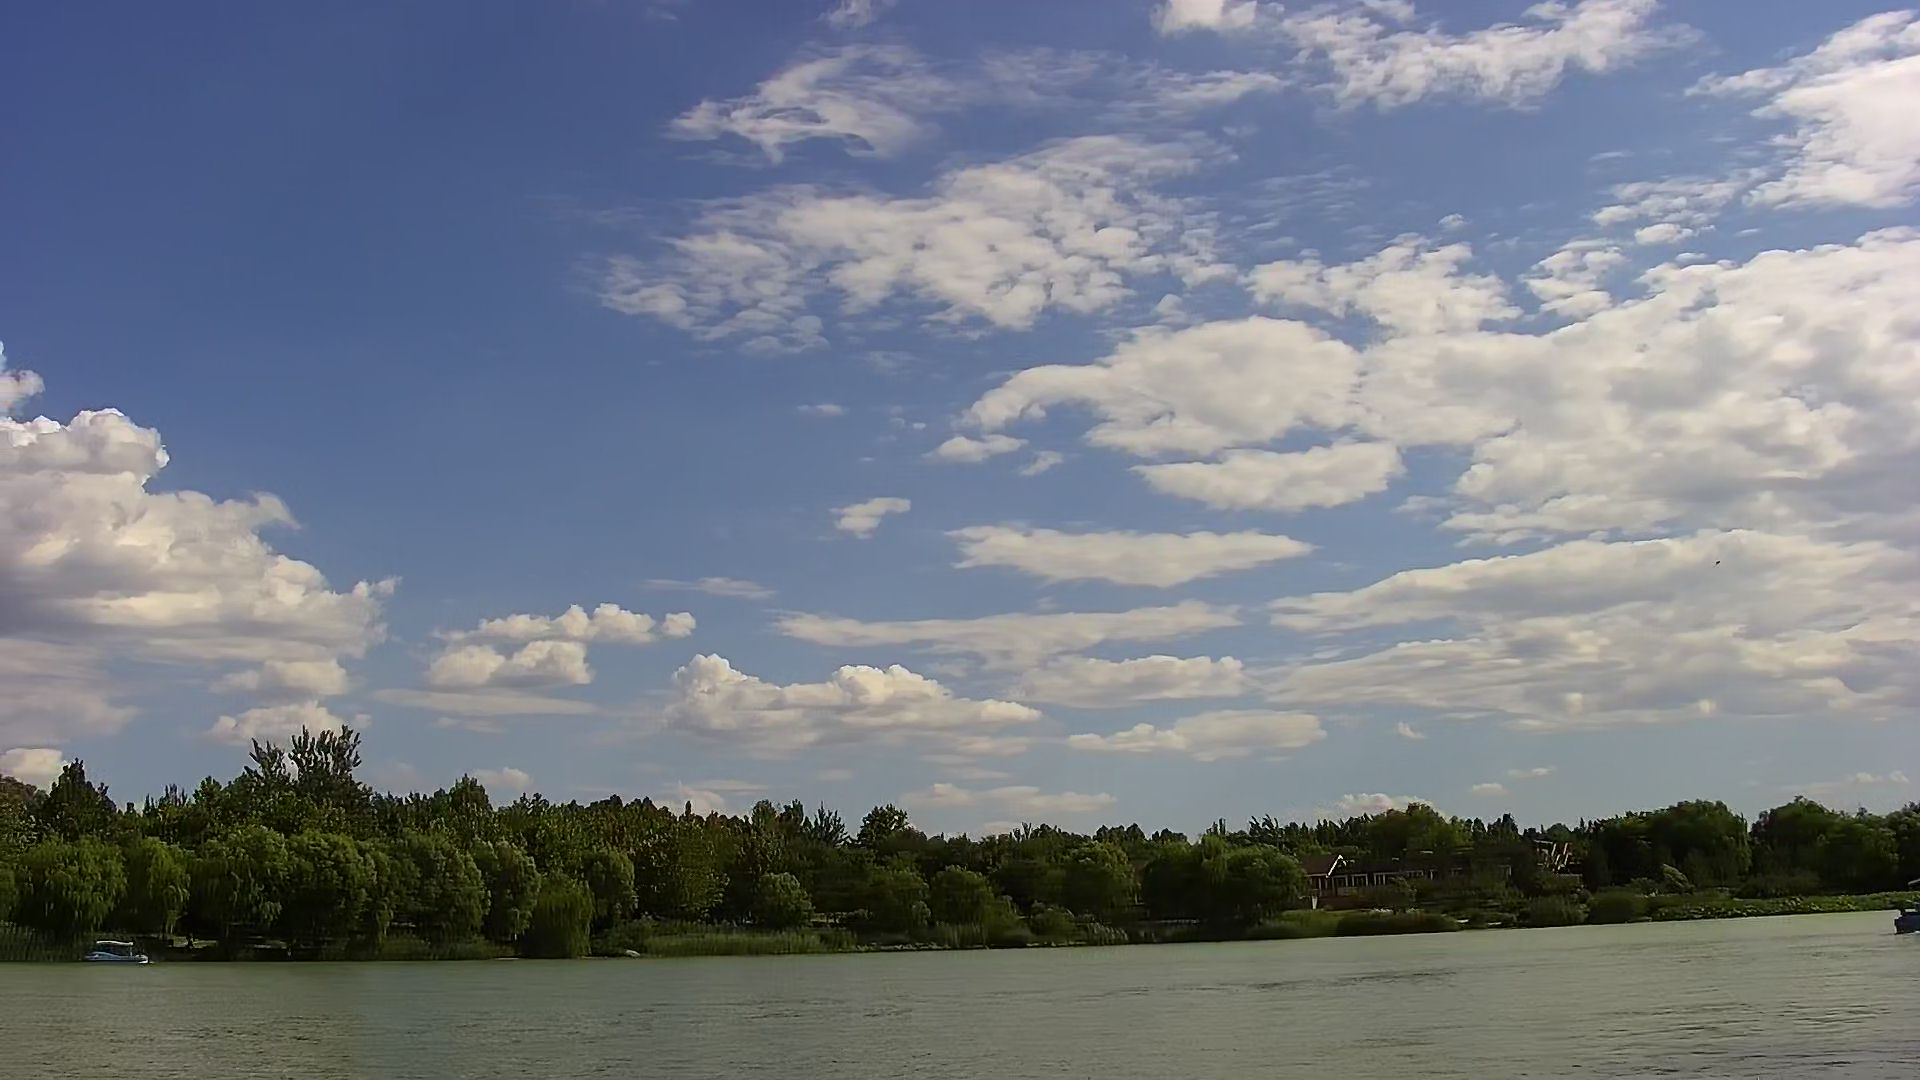boat: (76, 936, 148, 971)
